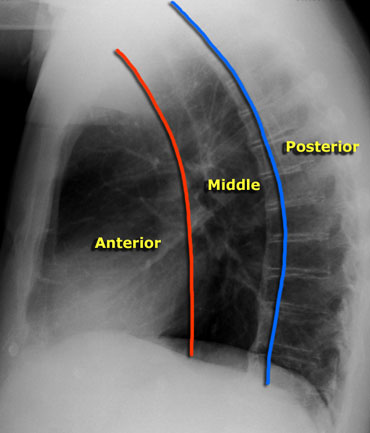telestration: (171, 1, 290, 391), (113, 49, 193, 357), (93, 235, 160, 251), (287, 142, 359, 156), (208, 178, 264, 192)
